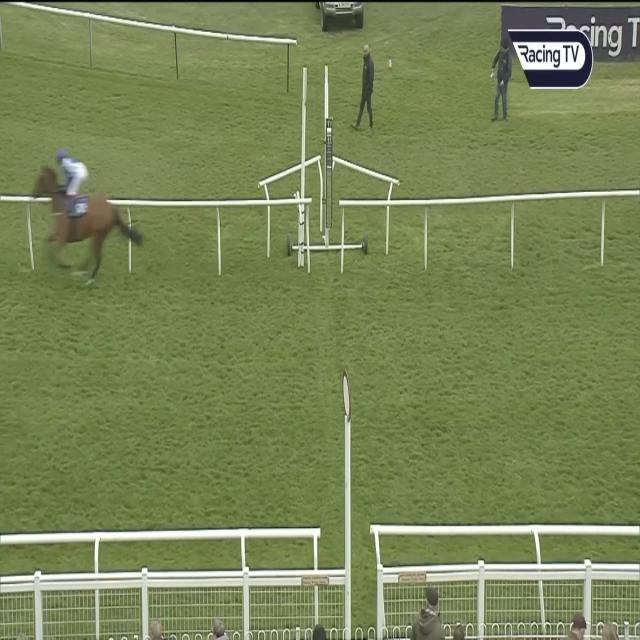horses-racing: (25, 149, 140, 284)
